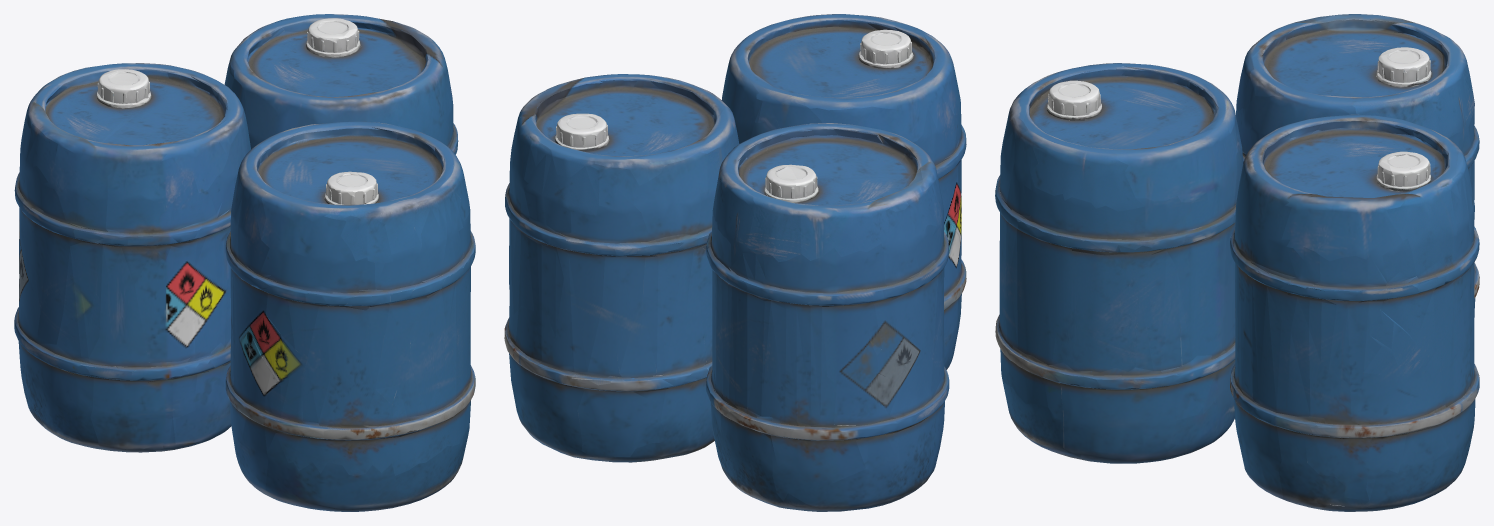
Rendered from fusti_cloro.glb.
The picture shows the model from 3 angles, left to right: view 1: azimuth 30°, elevation 25°; view 2: azimuth 150°, elevation 25°; view 3: azimuth 270°, elevation 25°; orthographic projection. The views are drawn at different scales.
Parts seen in each view (by area): view 1: Mesh_0; view 2: Mesh_0; view 3: Mesh_0.
Boxes of the visible parts, <box> form: Mesh_0: <box>14,14,475,511</box>; Mesh_0: <box>504,14,966,511</box>; Mesh_0: <box>995,14,1479,511</box>.
Size of the model in its own units: 1.9 by 1.38 by 1.9.
Materials: 1 (1 with a texture image).
